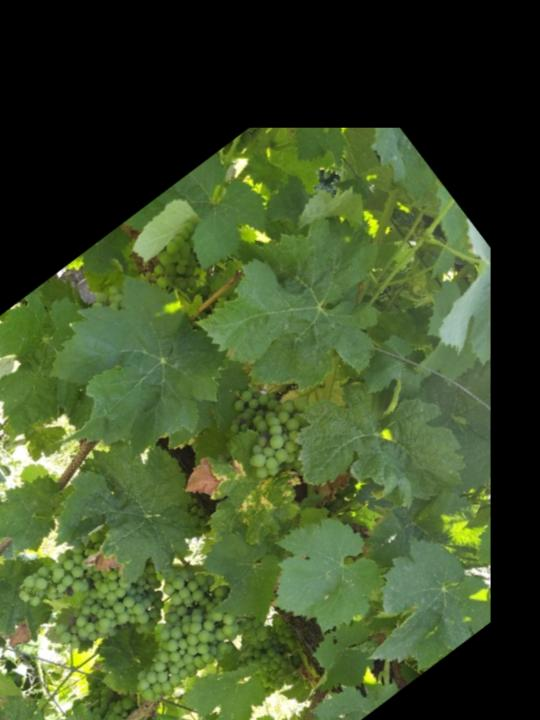grape: (92, 547, 273, 720), (38, 538, 188, 679), (209, 361, 342, 495), (10, 520, 129, 628)
